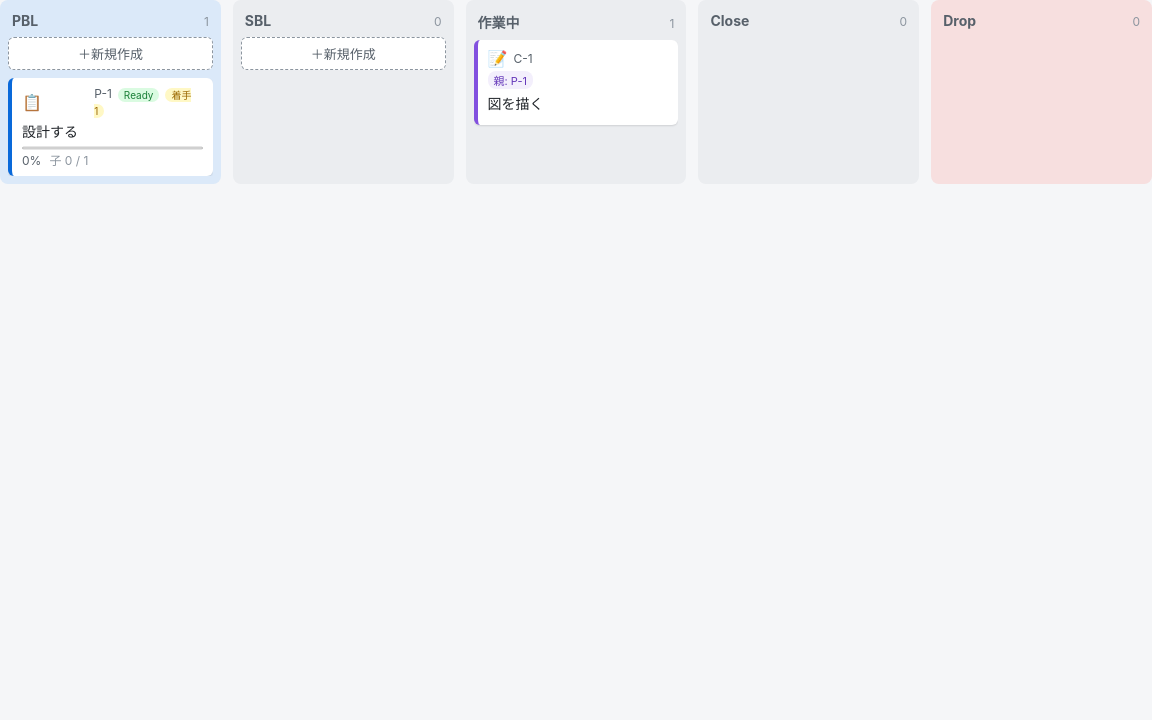
Test: BoardView › 親詳細の子アイテム一覧から子の詳細を開ける
Double-click the text "設計する": [50, 132] box [22,123,78,140]
(page scrolled)
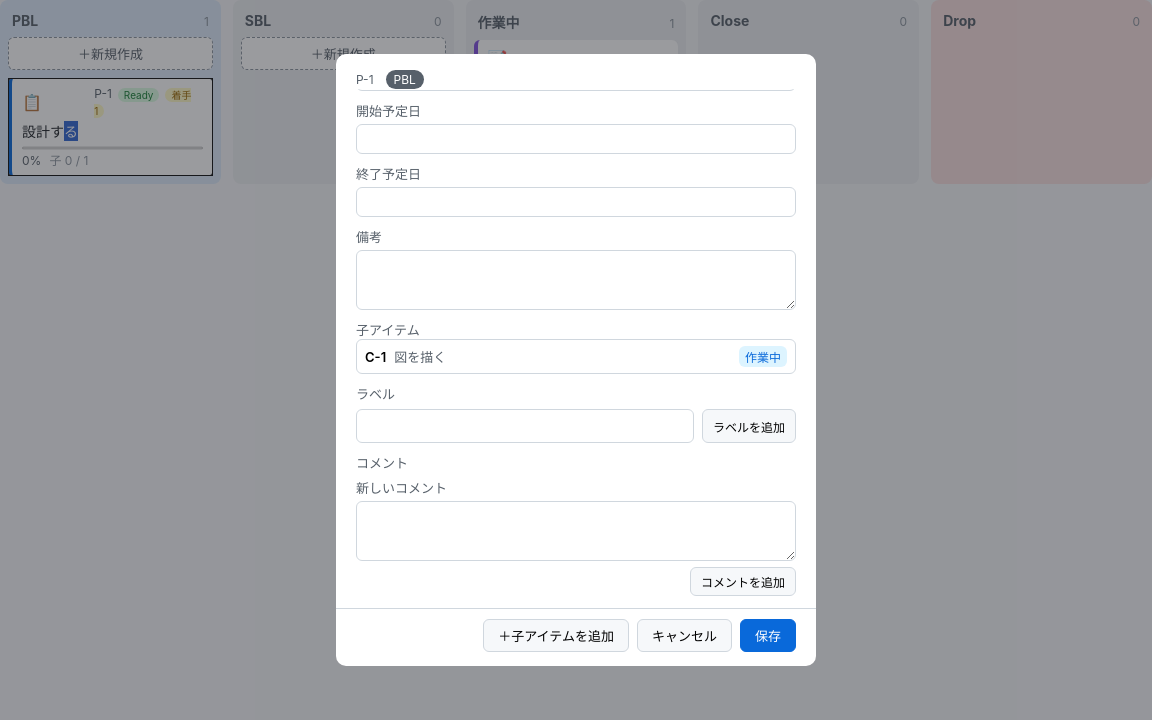
Check: the button "C-1 図を描く 作業中" is shown
Click the button "C-1 図を描く 作業中": [420, 357] box [356,339,796,374]
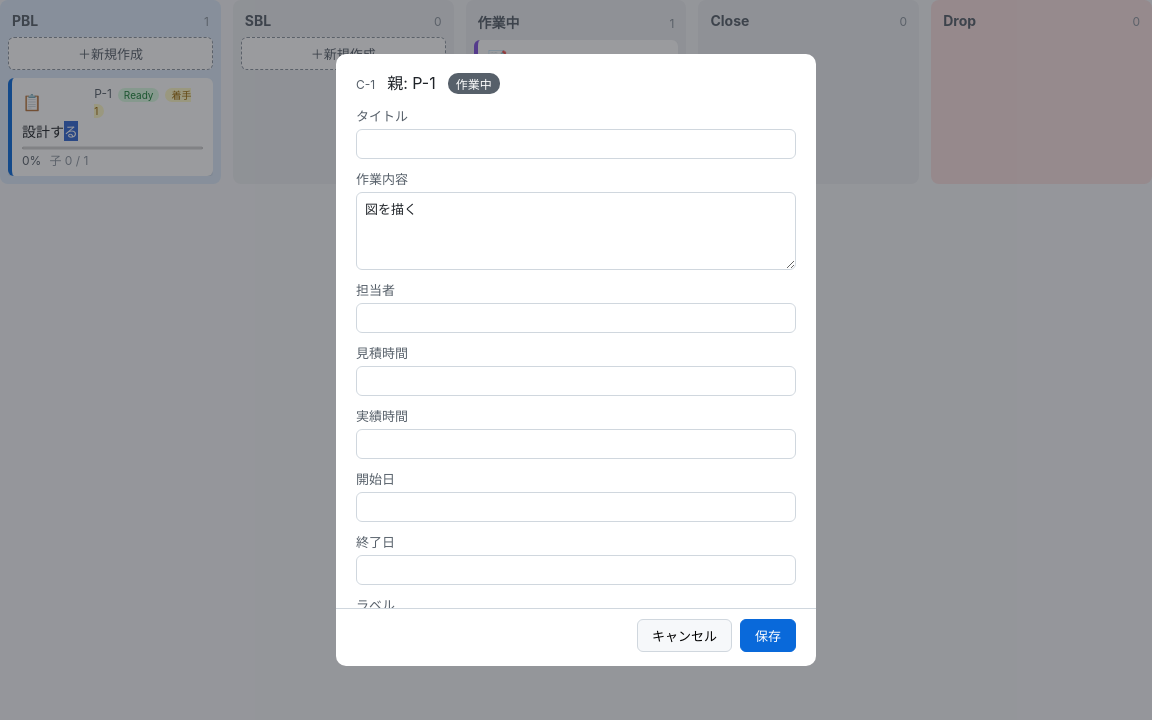
Check: the dialog named "C-1 の詳細" is shown, box [336,54,816,666]
